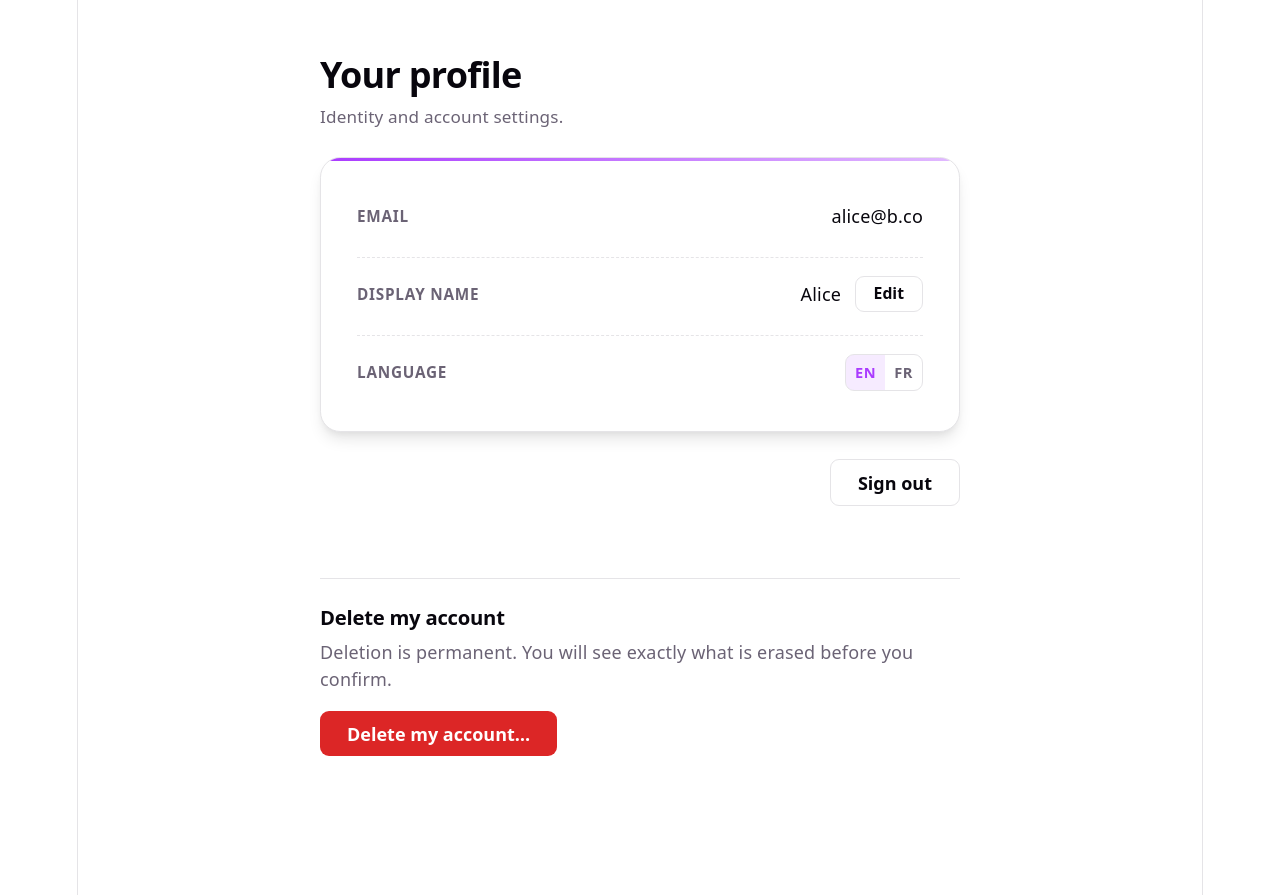
it: ProfilePage — display-name edit › exits edit mode and reverts when Cancel is clicked
Click the button "Edit". click: click(889, 294)
box: [855, 276, 923, 312]
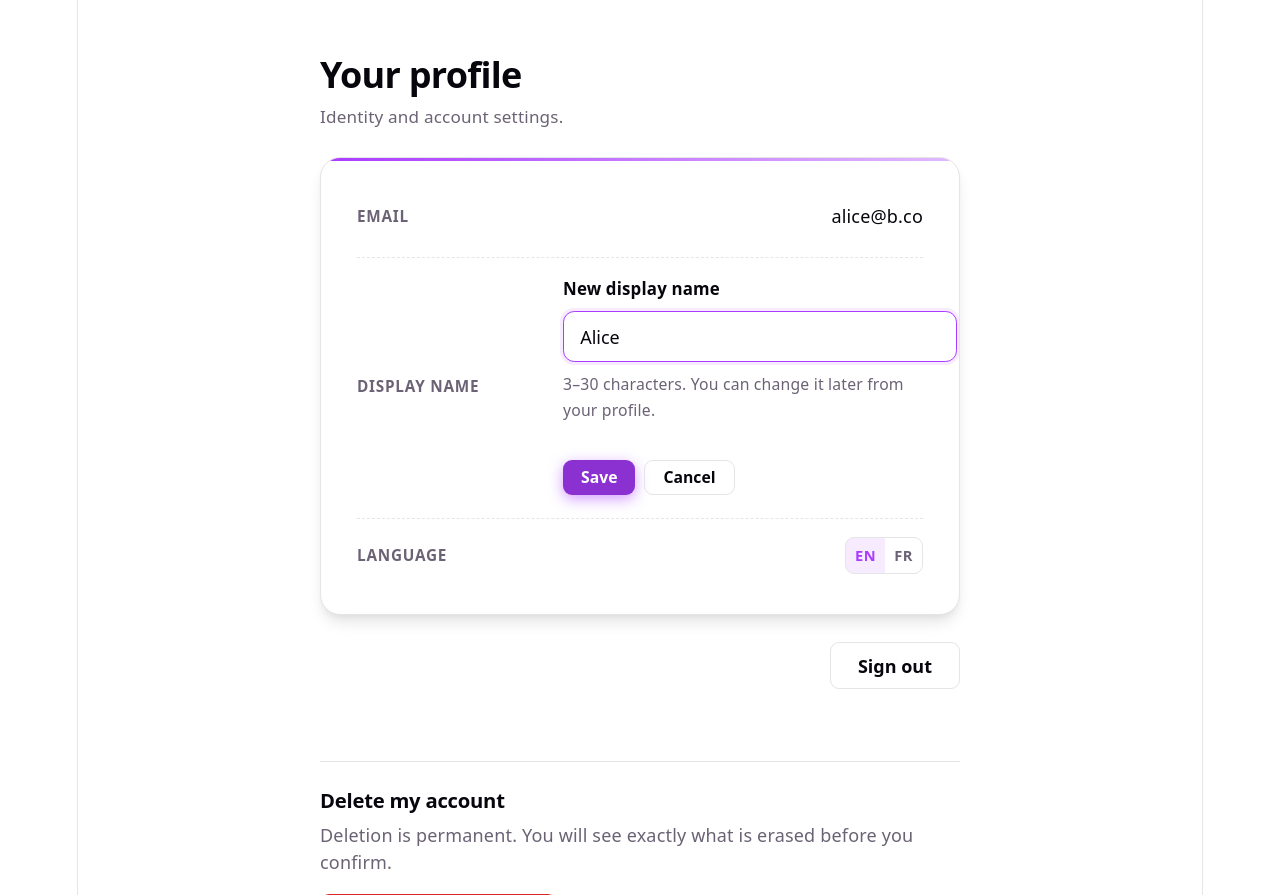
Replace the text in the field labelled "New display name" with "Something Else". click: (760, 337)
box: [563, 311, 957, 362]
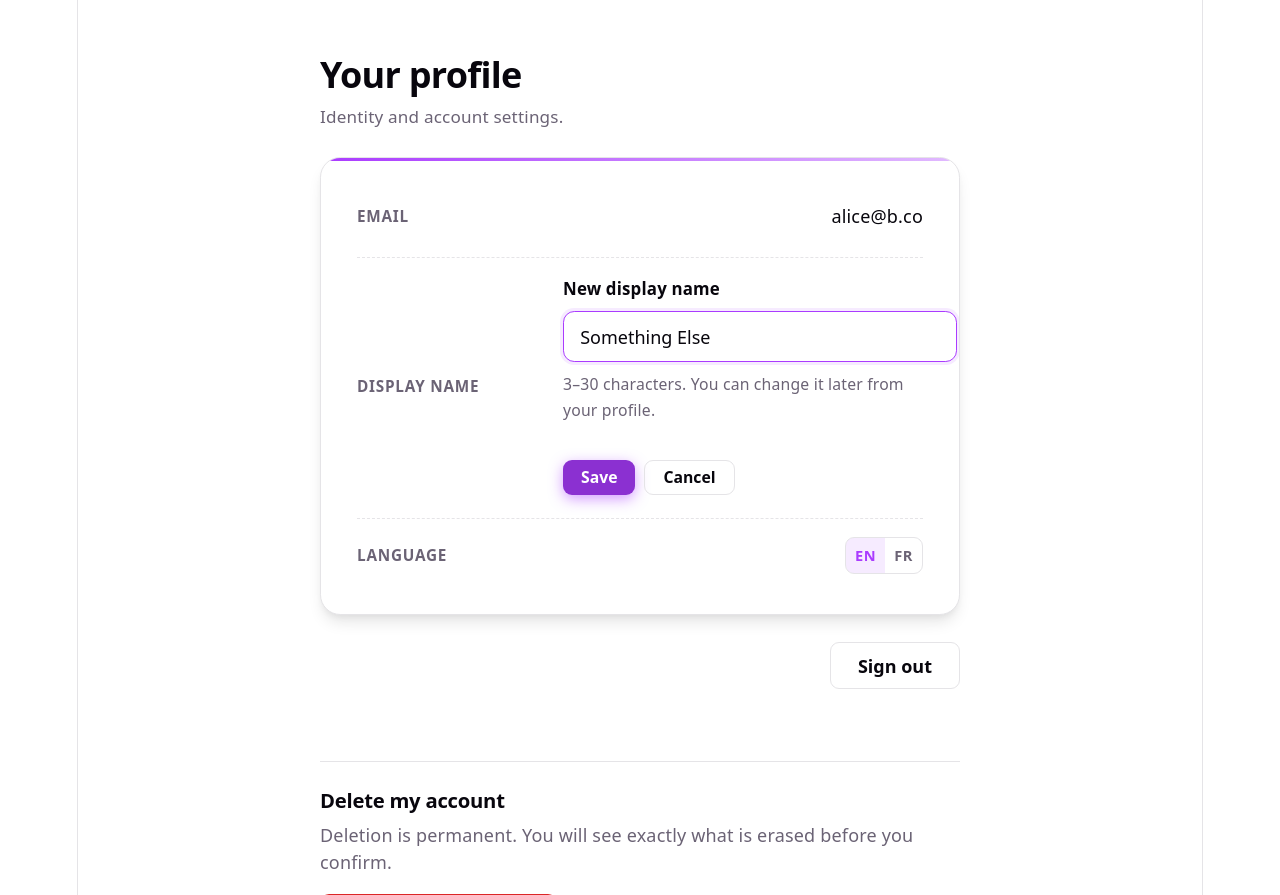
Click the button "Cancel". click: click(690, 477)
box: [644, 460, 735, 495]
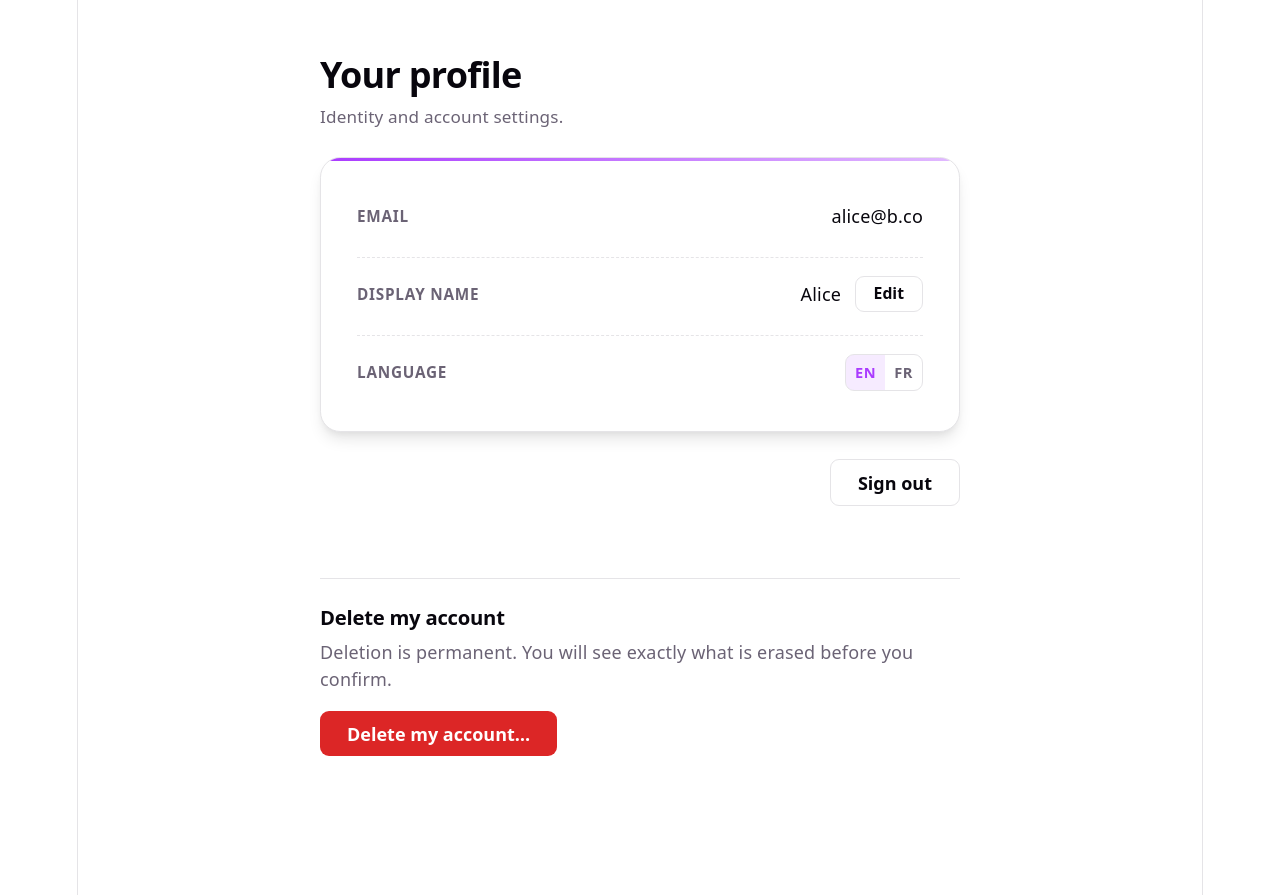
Expected: the text "Alice" is shown, [801, 281, 841, 307]
